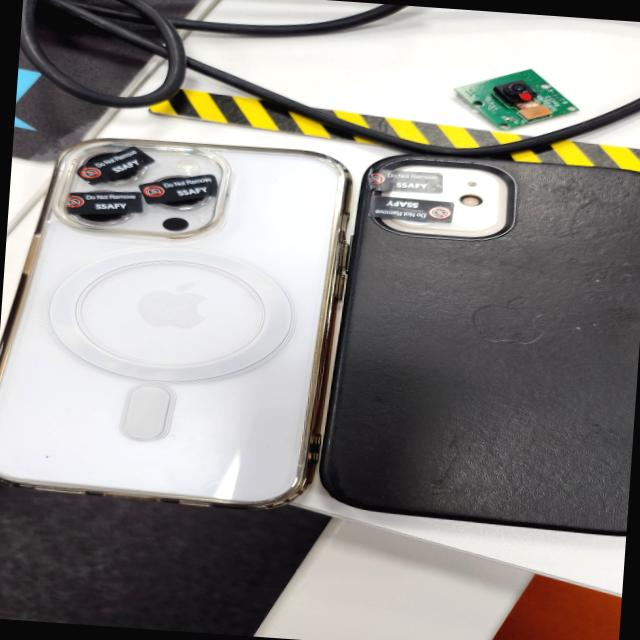phone: (0, 129, 351, 509), (315, 149, 640, 533)
sticker: (72, 143, 153, 190), (134, 170, 218, 210), (62, 186, 140, 222), (366, 194, 453, 224), (362, 167, 448, 196)
